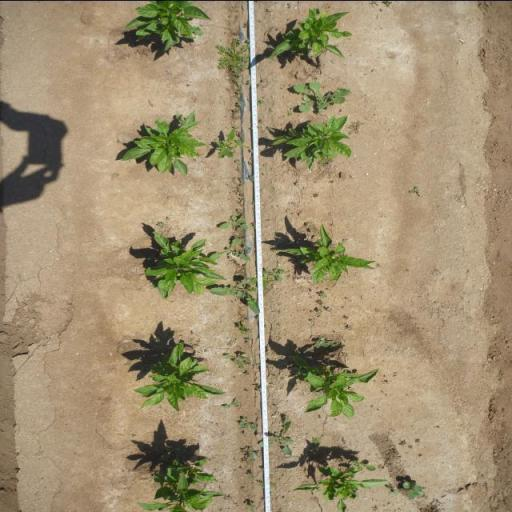plant: (133, 341, 224, 410), (292, 355, 380, 419), (120, 118, 208, 177), (280, 232, 378, 283), (291, 462, 390, 512), (146, 230, 212, 300), (120, 0, 212, 50), (267, 7, 352, 61), (138, 460, 224, 512), (274, 116, 352, 162), (258, 418, 293, 455)
weed: (294, 79, 352, 114), (210, 280, 258, 314), (214, 38, 251, 76), (210, 236, 252, 260), (216, 131, 238, 158), (219, 214, 249, 230), (222, 352, 248, 370), (402, 480, 426, 499), (249, 274, 276, 288), (262, 267, 287, 280), (160, 445, 182, 459), (240, 446, 256, 464), (238, 416, 258, 430), (348, 119, 364, 135), (322, 339, 344, 350), (352, 459, 377, 468), (236, 320, 252, 334), (386, 482, 399, 496), (236, 186, 246, 204), (233, 78, 243, 94), (407, 184, 421, 195), (258, 481, 277, 489), (223, 399, 239, 408), (317, 158, 334, 166), (230, 107, 240, 120), (314, 336, 324, 348), (244, 501, 256, 511), (310, 434, 322, 444), (256, 77, 266, 88), (252, 382, 262, 392), (240, 236, 248, 248), (236, 132, 245, 142), (236, 207, 246, 216), (250, 201, 256, 215), (247, 155, 254, 165), (315, 298, 324, 305), (384, 0, 393, 7), (256, 99, 266, 105), (244, 360, 254, 366), (318, 292, 328, 298), (244, 336, 251, 344), (238, 176, 243, 186), (414, 436, 421, 443), (286, 109, 293, 116), (236, 100, 244, 106), (227, 340, 235, 346), (315, 308, 323, 314), (247, 472, 255, 478), (156, 221, 164, 227), (258, 117, 264, 124), (248, 174, 255, 180), (305, 220, 312, 226), (326, 306, 333, 312), (399, 439, 406, 445), (235, 166, 241, 172), (250, 222, 256, 228), (287, 1, 292, 8), (243, 22, 249, 27), (243, 370, 249, 375), (313, 192, 318, 198), (246, 78, 251, 84), (248, 148, 254, 152), (254, 316, 260, 320), (348, 324, 352, 330), (274, 410, 280, 414), (407, 444, 413, 448), (256, 125, 263, 128), (234, 159, 240, 162), (244, 388, 250, 391), (295, 351, 301, 354), (310, 228, 315, 231), (265, 126, 272, 128), (232, 126, 238, 128), (343, 316, 349, 318), (293, 182, 299, 184), (328, 180, 334, 182), (228, 14, 232, 16)
